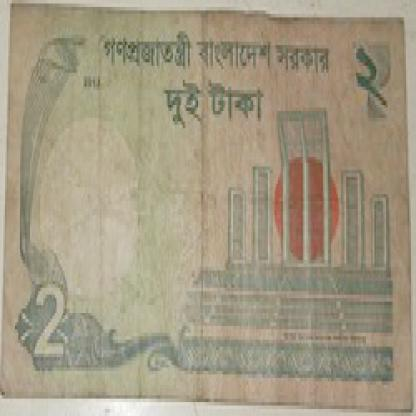two taka: (33, 278, 83, 374), (351, 45, 393, 114)
